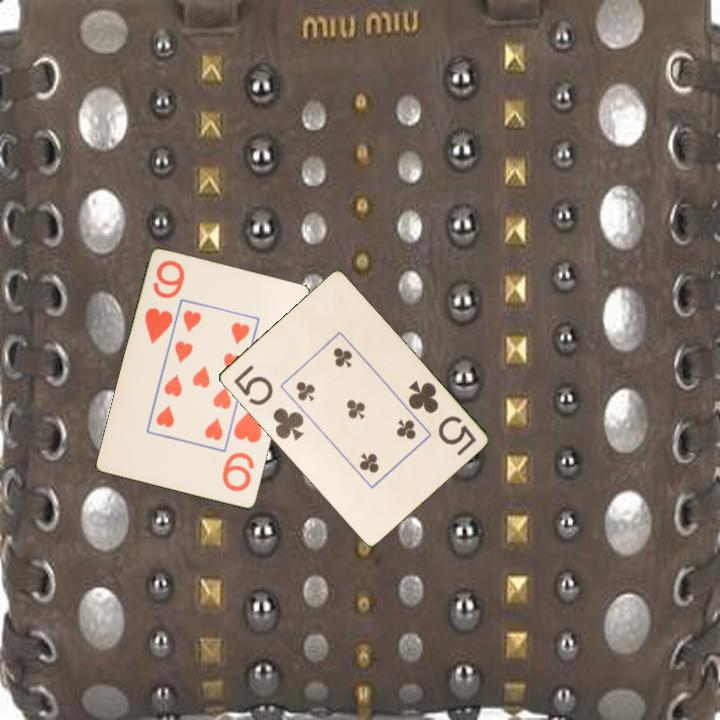5c: (230, 361, 307, 444), (404, 377, 479, 459)
9h: (219, 403, 265, 495), (141, 257, 188, 347)
